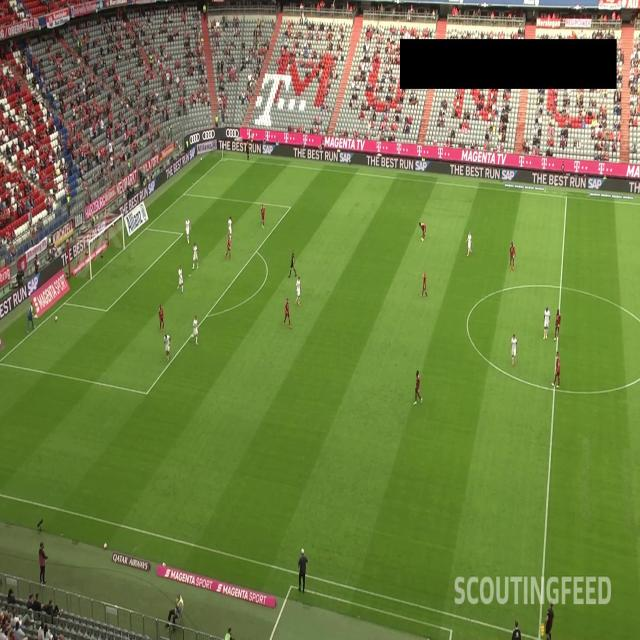ball: (54, 313, 59, 323)
player: (508, 327, 520, 368), (24, 298, 37, 335), (413, 368, 424, 407), (551, 348, 561, 390), (542, 301, 552, 342), (282, 295, 293, 330), (190, 312, 199, 349), (156, 302, 166, 335), (162, 332, 172, 364), (554, 303, 562, 343), (508, 238, 517, 272), (190, 242, 200, 272), (420, 269, 429, 300), (295, 274, 303, 308), (464, 230, 474, 256), (184, 214, 192, 246), (177, 263, 184, 295), (226, 214, 234, 242), (260, 201, 267, 231), (418, 218, 426, 244), (225, 234, 231, 262)
referee: (542, 595, 554, 640), (287, 244, 299, 278), (244, 136, 251, 162)
